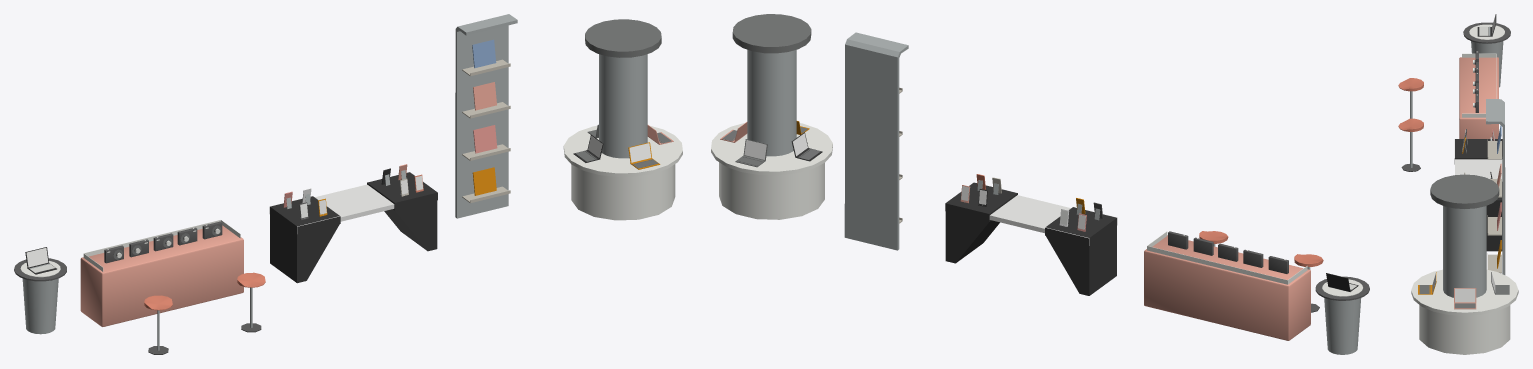
The picture shows the model from 3 angles, left to right: view 1: azimuth 30°, elevation 25°; view 2: azimuth 150°, elevation 25°; view 3: azimuth 270°, elevation 25°; orthographic projection. The views are drawn at different scales.
Visible parts, largest first — view 1: Cube_1, Cube_4, Cube_2, Cube, Cylinder_3; view 2: Cube_1, Cube_4, Cube_2, Cube, Cylinder_3; view 3: Cube_1, Cube_4, Cube_2, Cube, Cylinder_3.
Boxes of the visible parts, x1,y1,x2,y2 form: Cube_1: (455, 14, 682, 220); Cube_4: (80, 220, 243, 326); Cube_2: (269, 164, 437, 283); Cube: (14, 247, 66, 334); Cylinder_3: (144, 272, 265, 354); Cube_1: (711, 14, 908, 250); Cube_4: (1144, 231, 1310, 340); Cube_2: (945, 174, 1117, 295); Cube: (1315, 273, 1369, 354); Cylinder_3: (1199, 231, 1323, 312); Cube_1: (1411, 99, 1518, 354); Cube_4: (1459, 51, 1498, 138); Cube_2: (1454, 129, 1502, 251); Cube: (1463, 14, 1510, 87); Cylinder_3: (1398, 78, 1423, 171).
Size of the model in its own units: 591 by 177 by 106.
